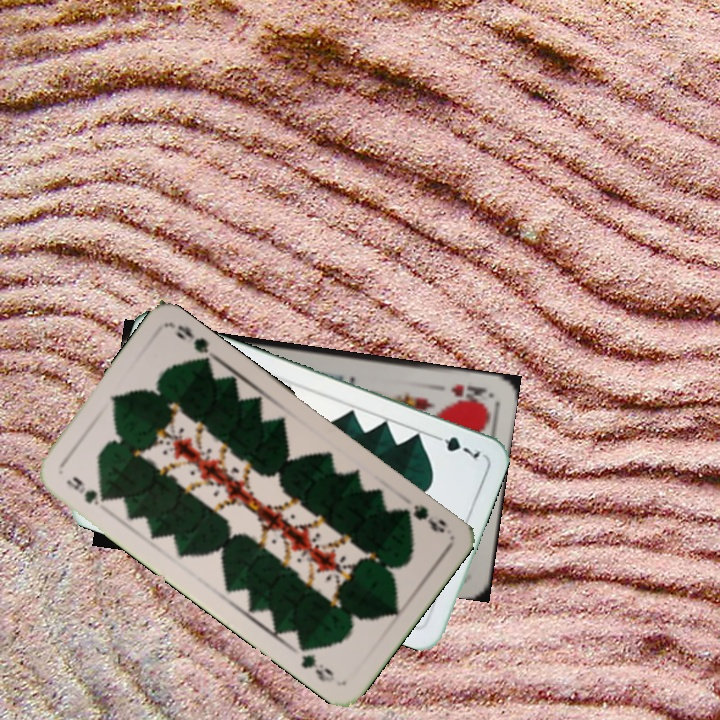G7: (427, 430, 483, 462)
G9: (395, 500, 449, 536), (62, 472, 113, 508)
HK: (447, 379, 492, 406)
